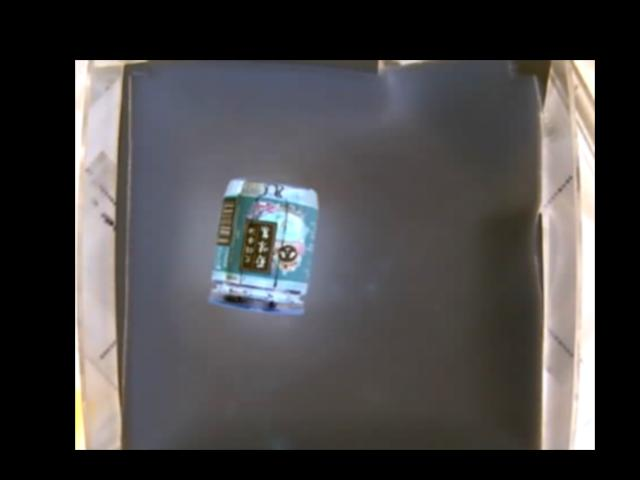Bottle: (204, 179, 317, 316)
